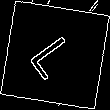L_NE: (25, 27, 85, 83)
